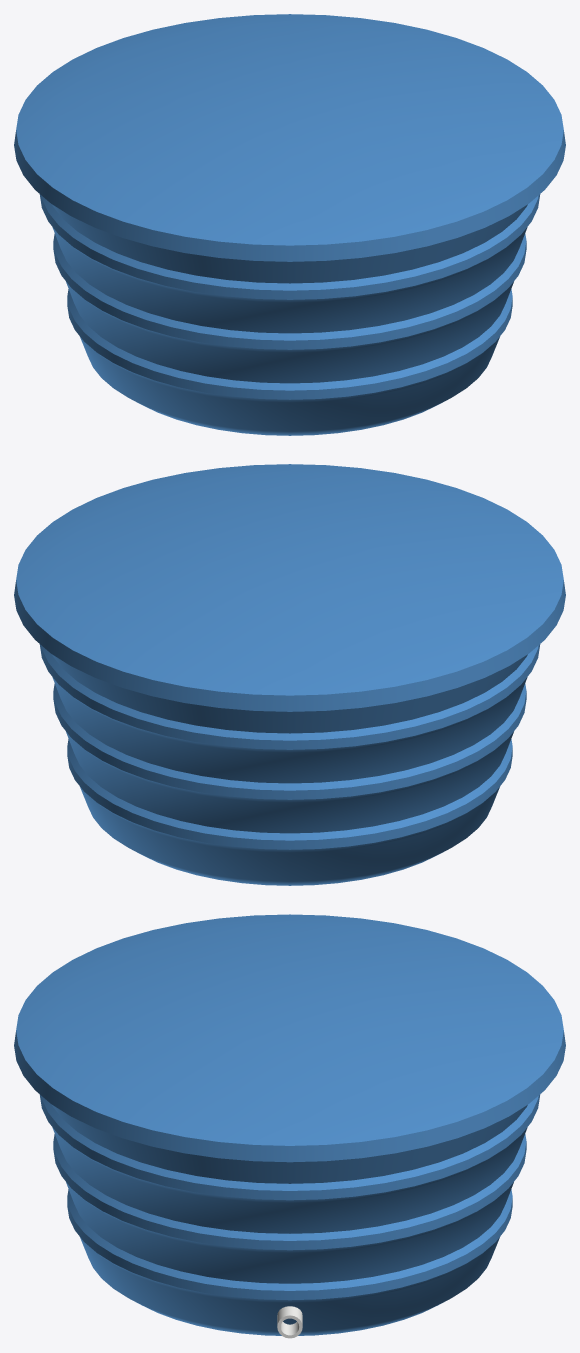
File: HID-RES-001.glb
The picture shows the model from 3 angles, top to bottom: view 1: azimuth 30°, elevation 25°; view 2: azimuth 150°, elevation 25°; view 3: azimuth 270°, elevation 25°; orthographic projection.
Parts seen in each view (by area): view 1: HID-RES-001_tampa, HID-RES-001_corpo; view 2: HID-RES-001_tampa, HID-RES-001_corpo; view 3: HID-RES-001_tampa, HID-RES-001_corpo, HID-RES-001_saida.
Boxes of the visible parts, bbox=[...] form: HID-RES-001_tampa: bbox=[14, 14, 565, 261]; HID-RES-001_corpo: bbox=[39, 194, 540, 435]; HID-RES-001_tampa: bbox=[14, 464, 565, 711]; HID-RES-001_corpo: bbox=[39, 644, 540, 885]; HID-RES-001_tampa: bbox=[14, 914, 565, 1162]; HID-RES-001_corpo: bbox=[39, 1094, 540, 1335]; HID-RES-001_saida: bbox=[277, 1306, 302, 1338].
Size of the model in its own units: 1.3 by 0.65 by 1.3.
